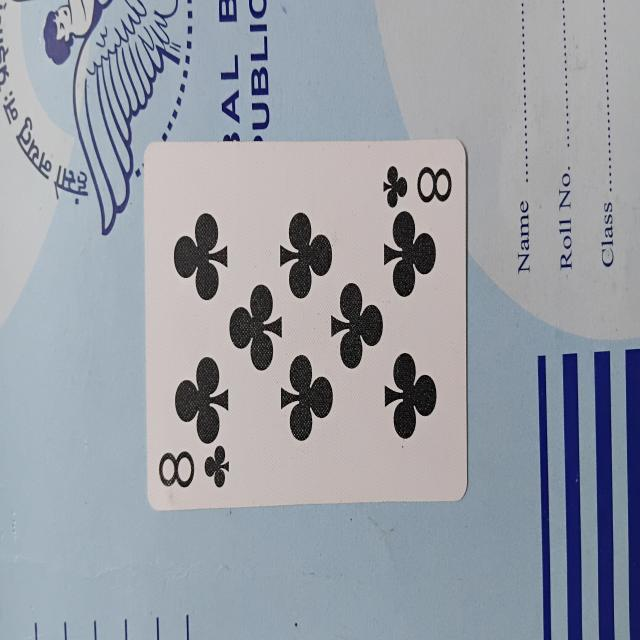8C: (144, 138, 468, 500)
